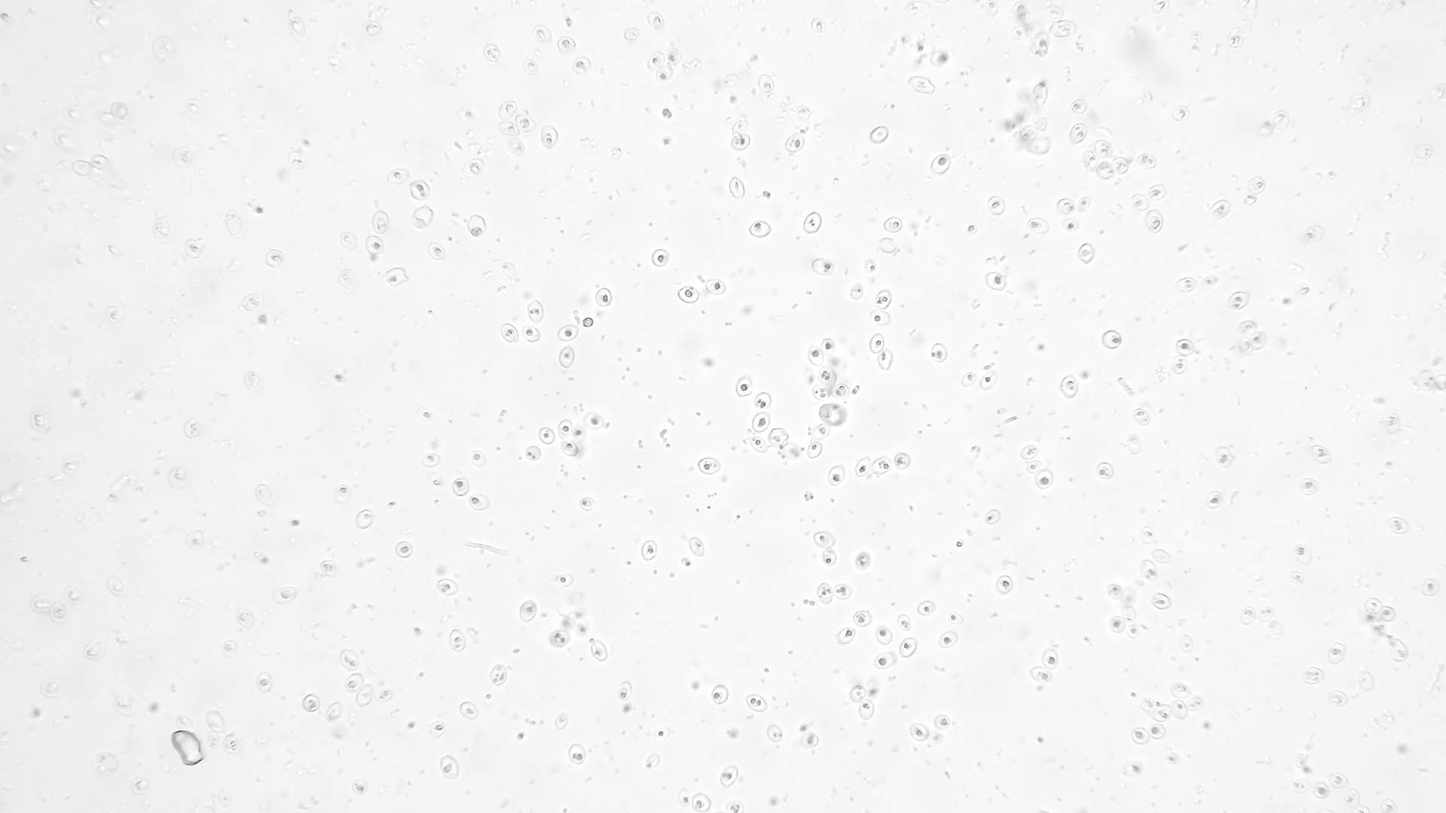yeast: (166, 144, 203, 169), (37, 675, 70, 701), (148, 35, 178, 63), (221, 207, 246, 239), (231, 605, 260, 632), (110, 693, 142, 717), (284, 14, 309, 44), (29, 592, 60, 616), (284, 148, 311, 175), (81, 633, 106, 662), (1387, 635, 1412, 664), (929, 148, 953, 178), (105, 574, 131, 601), (202, 709, 228, 736), (410, 202, 435, 230), (384, 265, 412, 290), (1225, 288, 1251, 314), (438, 754, 463, 781), (363, 233, 386, 262), (1057, 374, 1082, 400), (984, 194, 1008, 221), (1025, 215, 1052, 239), (496, 320, 520, 347), (538, 123, 563, 148), (716, 763, 740, 789), (743, 691, 770, 714), (725, 175, 748, 202), (109, 99, 132, 126), (241, 367, 264, 394), (252, 481, 275, 508), (554, 322, 583, 343), (524, 297, 545, 326), (254, 668, 275, 697), (1213, 445, 1237, 470), (166, 464, 190, 489), (270, 586, 300, 606), (172, 712, 197, 736), (27, 407, 50, 433), (60, 455, 87, 477), (337, 647, 359, 674), (354, 681, 376, 708), (580, 410, 608, 431), (782, 132, 810, 153), (459, 157, 487, 178), (518, 598, 539, 626), (183, 97, 203, 126), (872, 286, 896, 310), (343, 672, 367, 696), (697, 454, 722, 477), (556, 345, 579, 370), (977, 367, 1000, 392), (985, 269, 1008, 294), (1027, 665, 1052, 688), (800, 212, 825, 235), (409, 177, 432, 202), (323, 699, 346, 724), (565, 743, 590, 766), (1292, 542, 1314, 568), (62, 583, 84, 609), (447, 628, 469, 654), (1300, 665, 1326, 687), (1048, 20, 1078, 39), (808, 257, 835, 278), (371, 208, 392, 235), (49, 599, 70, 626), (702, 277, 730, 297), (673, 285, 701, 305), (871, 651, 899, 671), (221, 729, 241, 757), (589, 637, 609, 665), (1327, 639, 1347, 667), (1100, 328, 1123, 352), (237, 291, 261, 314), (468, 213, 487, 242), (128, 775, 157, 794), (577, 493, 599, 518), (1207, 199, 1232, 221), (468, 491, 493, 513), (1355, 668, 1377, 693), (733, 374, 754, 400), (1138, 557, 1159, 583), (1144, 209, 1165, 235), (639, 537, 659, 564), (453, 105, 480, 125), (217, 30, 240, 53), (993, 574, 1015, 598), (1039, 647, 1061, 671), (1297, 475, 1319, 499), (1381, 412, 1403, 436), (868, 124, 892, 146), (486, 665, 510, 687), (812, 529, 837, 550), (825, 463, 846, 488), (1386, 515, 1411, 536), (1076, 241, 1097, 266), (355, 507, 376, 532), (548, 629, 573, 650), (815, 578, 833, 607), (874, 347, 894, 373), (1120, 760, 1146, 780), (1309, 444, 1335, 464), (433, 577, 459, 597), (928, 342, 950, 365), (850, 455, 872, 478), (936, 631, 959, 653), (749, 219, 772, 241), (336, 229, 359, 251), (263, 246, 285, 269), (182, 417, 205, 439), (183, 529, 205, 552), (300, 692, 322, 715), (457, 700, 480, 722), (749, 410, 770, 434), (868, 308, 892, 329), (686, 535, 707, 559), (871, 453, 892, 477), (853, 549, 874, 573), (835, 626, 859, 647), (897, 635, 918, 659), (1035, 468, 1056, 492), (1171, 276, 1199, 294), (1134, 151, 1158, 172), (182, 236, 203, 260), (1326, 687, 1350, 708), (1125, 430, 1143, 458), (361, 20, 387, 39), (816, 366, 838, 388), (831, 581, 853, 603), (882, 215, 904, 237), (1130, 406, 1152, 428), (1173, 336, 1195, 358), (104, 302, 126, 324), (427, 719, 449, 741), (749, 434, 770, 457), (593, 285, 614, 308), (691, 790, 712, 813), (1129, 191, 1152, 212), (730, 132, 753, 153), (645, 11, 668, 32), (375, 684, 398, 705), (347, 775, 370, 796), (451, 477, 474, 498), (864, 333, 888, 353), (709, 683, 729, 707), (756, 72, 776, 96), (555, 36, 579, 56), (514, 111, 534, 135), (63, 103, 87, 123), (332, 483, 352, 507), (219, 638, 239, 662), (426, 471, 450, 491), (1339, 787, 1363, 807), (1151, 545, 1175, 565), (768, 427, 790, 448), (872, 624, 893, 646), (932, 712, 953, 734), (1245, 174, 1267, 195), (571, 55, 592, 77), (317, 557, 338, 579), (468, 449, 490, 470), (810, 421, 833, 441), (893, 450, 913, 473), (1150, 591, 1173, 611), (1363, 595, 1383, 618), (386, 166, 409, 186), (418, 449, 441, 469), (556, 417, 576, 440), (1287, 778, 1314, 795), (537, 424, 556, 448), (858, 697, 877, 721), (1302, 224, 1326, 243), (916, 599, 941, 617), (819, 547, 840, 568), (852, 608, 873, 629), (908, 723, 929, 744), (764, 722, 785, 743), (847, 682, 867, 704), (1095, 459, 1115, 481), (1420, 576, 1440, 598), (1170, 102, 1192, 122), (650, 246, 670, 268), (426, 242, 448, 262), (642, 752, 664, 772), (89, 761, 118, 776), (1168, 681, 1192, 699), (1239, 603, 1257, 627), (497, 120, 521, 138), (1417, 368, 1433, 395), (982, 507, 1003, 527), (1204, 490, 1224, 511), (1147, 182, 1168, 202), (1091, 139, 1112, 159), (1095, 159, 1115, 180), (1274, 106, 1289, 134), (483, 43, 503, 64), (520, 324, 541, 344), (1311, 780, 1332, 800), (830, 383, 852, 402), (1170, 700, 1189, 722), (1105, 580, 1124, 602), (1054, 196, 1076, 215), (532, 25, 554, 44), (497, 97, 516, 119), (559, 440, 581, 459), (797, 732, 820, 750), (1235, 319, 1258, 337), (1237, 334, 1255, 357), (1326, 771, 1349, 789), (806, 346, 823, 370), (1149, 705, 1173, 722), (1197, 275, 1221, 292), (1081, 148, 1098, 172), (1058, 217, 1083, 233), (1069, 121, 1085, 146), (804, 442, 825, 461), (959, 369, 978, 390), (1118, 604, 1139, 623), (1124, 620, 1143, 641), (505, 138, 526, 157), (848, 281, 866, 303), (89, 154, 111, 172), (218, 787, 236, 809), (553, 572, 576, 589), (723, 796, 746, 813), (1182, 695, 1206, 711), (337, 266, 353, 290), (754, 391, 773, 411), (1130, 727, 1150, 746), (1378, 604, 1397, 624), (1248, 332, 1268, 351), (1018, 124, 1037, 144), (394, 540, 413, 560), (1107, 614, 1125, 635), (654, 65, 675, 83), (810, 385, 832, 402), (819, 333, 836, 355), (1178, 634, 1195, 656), (946, 611, 969, 627), (1139, 524, 1155, 547), (895, 613, 914, 632), (645, 50, 664, 69), (657, 135, 676, 154), (1256, 604, 1274, 624), (1121, 587, 1139, 607), (1112, 155, 1130, 175), (1069, 97, 1087, 117), (861, 257, 879, 277), (615, 679, 630, 703), (1171, 354, 1188, 375), (1077, 194, 1094, 215), (1017, 443, 1039, 459), (1149, 722, 1167, 741), (621, 25, 640, 43), (676, 788, 693, 808), (413, 405, 433, 422), (205, 730, 221, 751), (523, 444, 541, 462), (664, 46, 682, 64), (795, 104, 813, 122), (72, 159, 90, 177), (520, 59, 539, 76), (499, 260, 516, 279), (1163, 751, 1182, 767), (554, 712, 569, 732), (654, 725, 671, 742), (1025, 458, 1042, 475), (731, 118, 747, 136), (50, 471, 73, 483), (983, 1, 999, 18), (809, 17, 825, 33), (1289, 570, 1305, 586), (1140, 697, 1155, 714), (577, 617, 587, 639)
